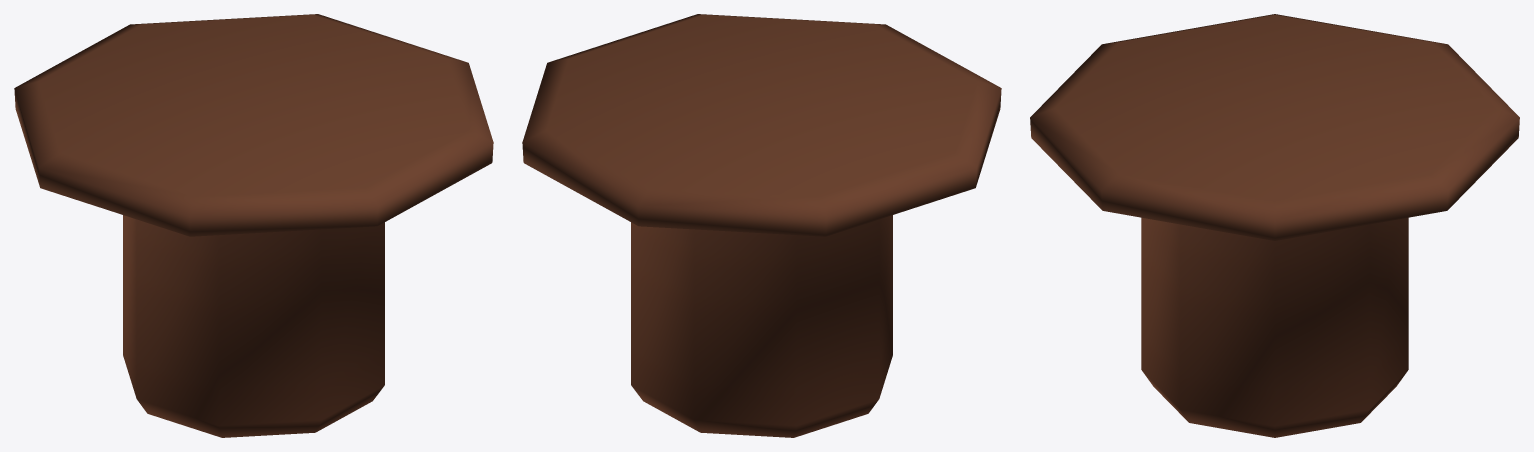
File: Table_Circular.fbx
The picture shows the model from 3 angles, left to right: view 1: azimuth 30°, elevation 25°; view 2: azimuth 150°, elevation 25°; view 3: azimuth 270°, elevation 25°; orthographic projection.
Parts seen in each view (by area): view 1: Table_Circular; view 2: Table_Circular; view 3: Table_Circular.
Boxes of the visible parts, box(x1,y1,x2,y2) form: Table_Circular: box(14, 14, 493, 437); Table_Circular: box(522, 14, 1001, 437); Table_Circular: box(1030, 14, 1519, 437).
Size of the model in its own units: 1.14 by 0.7136 by 1.14.
Materials: 1 (1 with a texture image).
